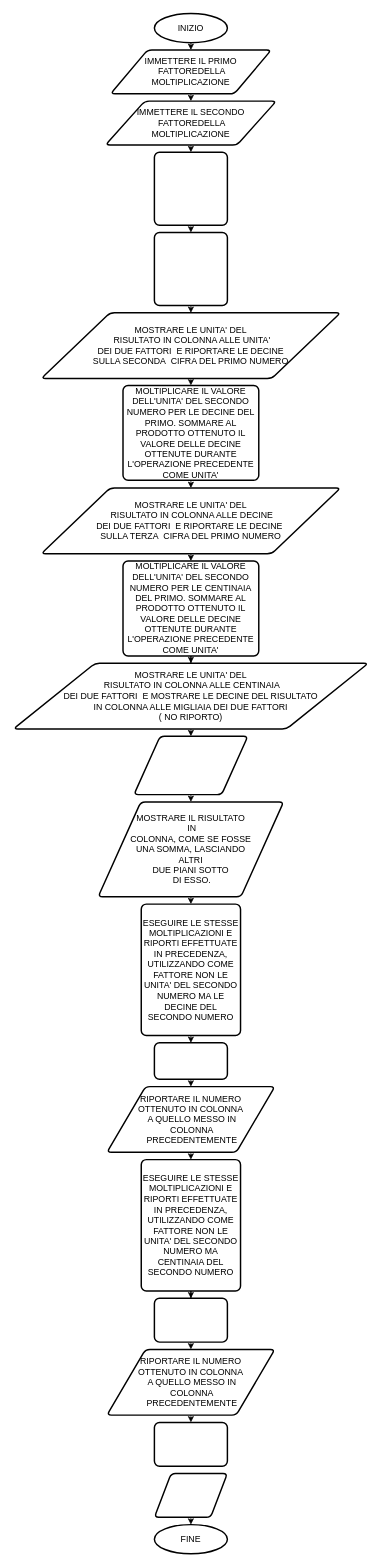
This 381x1567 diagram has some shape labels left out. The centre of each missing label's shape, as x and y in pixels:
"ESEGUIRE SOMMA DEI TRE NUMERI IN COLONNA" belongs at point 190,1444.
"MOLTIPLICARE IL NUMERO OTTENUTO X 10" belongs at point 190,1061.
"MOLTIPLICARE IL NUMERO OTTENUTO X 100" belongs at point 190,1319.
"MOLTIPLICARE IL VALORE DELL'UNITA' DEL SECONDO NUMERO PER L'UNITA' DEL PRIMO" belongs at point 190,268.
"MOSTRA IL RISULTATO OTTENUTO DAI PASSAGGI PRECEDENTI" belongs at point 190,765.
"MOSTRARE RISULTATO OTTENUTO" belongs at point 190,1495.
"POSIZIONARE I DUE NUMERI IN COLONNA, ALLINEANDO LE UNITA', DECINE E CENTINAIA" belongs at point 190,188.
